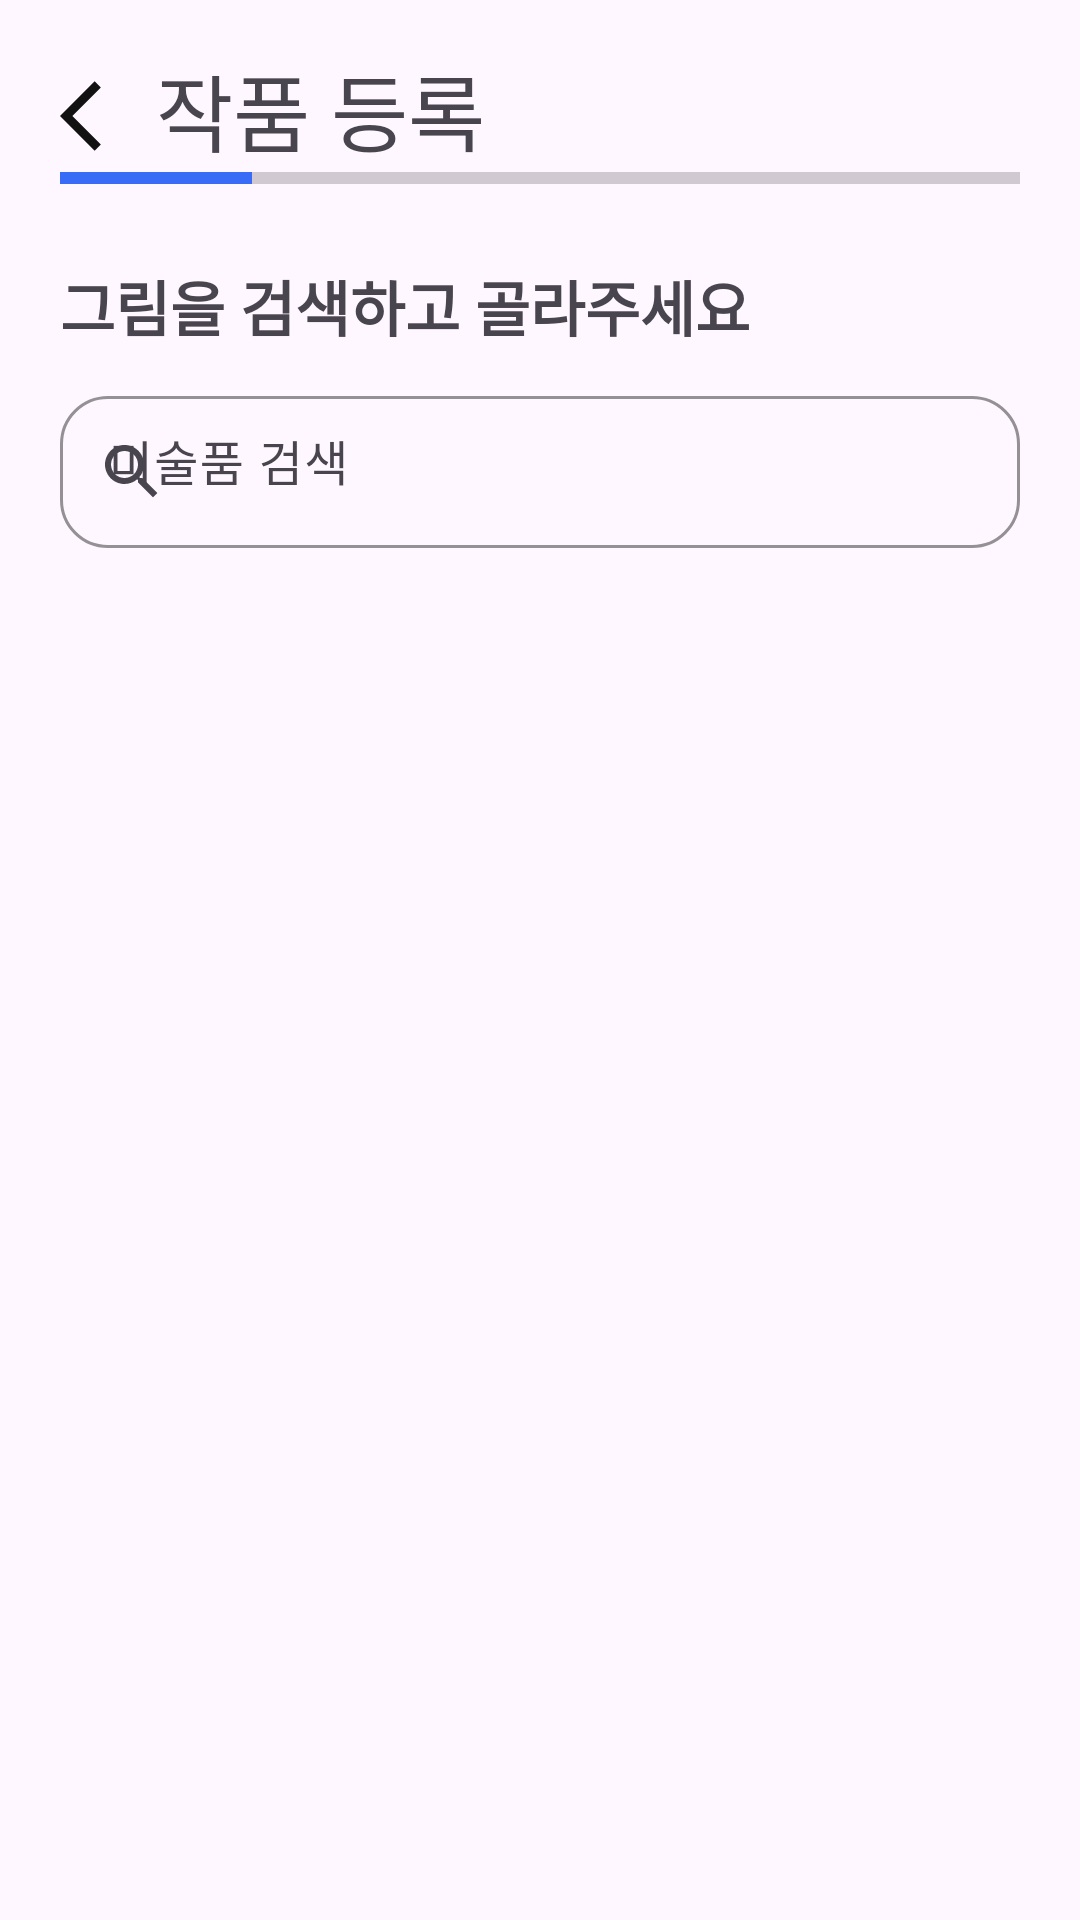

Icons on this 1080*1920 Android screen, each with its box as (left=x1, top=y1, right=x2, bottom=y2):
arrow back: (left=60, top=81, right=101, bottom=151)
